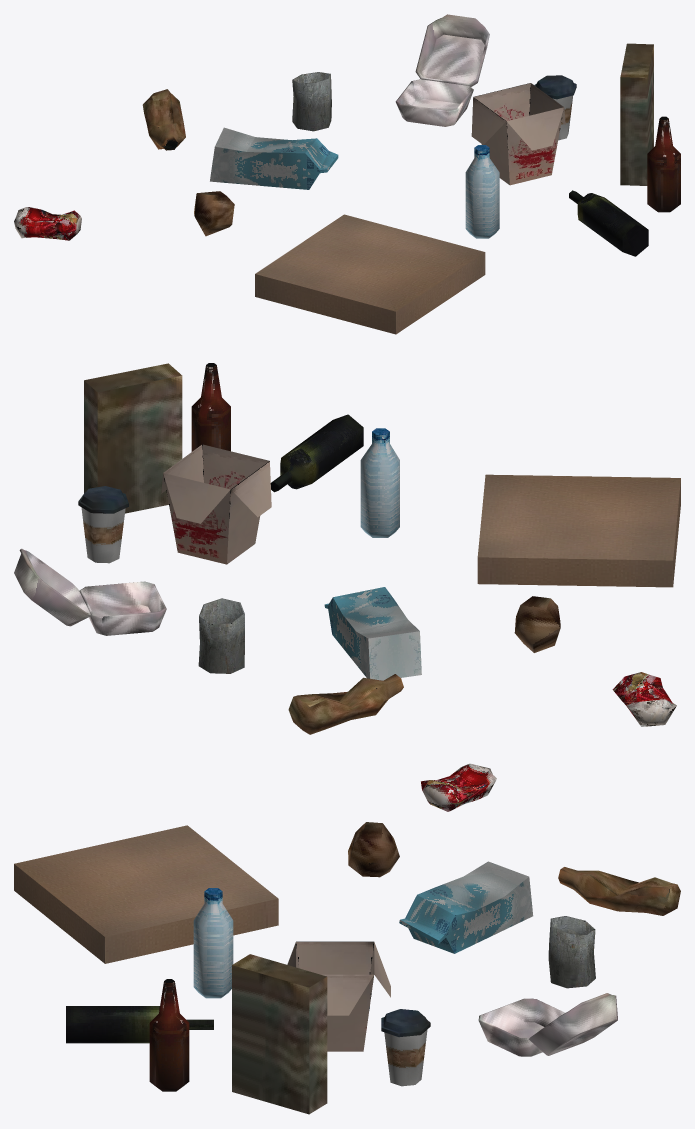
The model's file is floorgarbage.glb.
The picture shows the model from 3 angles, top to bottom: view 1: azimuth 30°, elevation 25°; view 2: azimuth 150°, elevation 25°; view 3: azimuth 270°, elevation 25°; orthographic projection. The views are drawn at different scales.
Parts seen in each view (by area): view 1: Trash_M_01; view 2: Trash_M_01; view 3: Trash_M_01.
Part boxes in pixels (x1,y1,x2,y2): Trash_M_01: (14, 14, 680, 334); Trash_M_01: (14, 363, 680, 734); Trash_M_01: (14, 763, 680, 1114).
Size of the model in its own units: 2.04 by 0.3703 by 1.76.
Materials: 1 (1 with a texture image).
